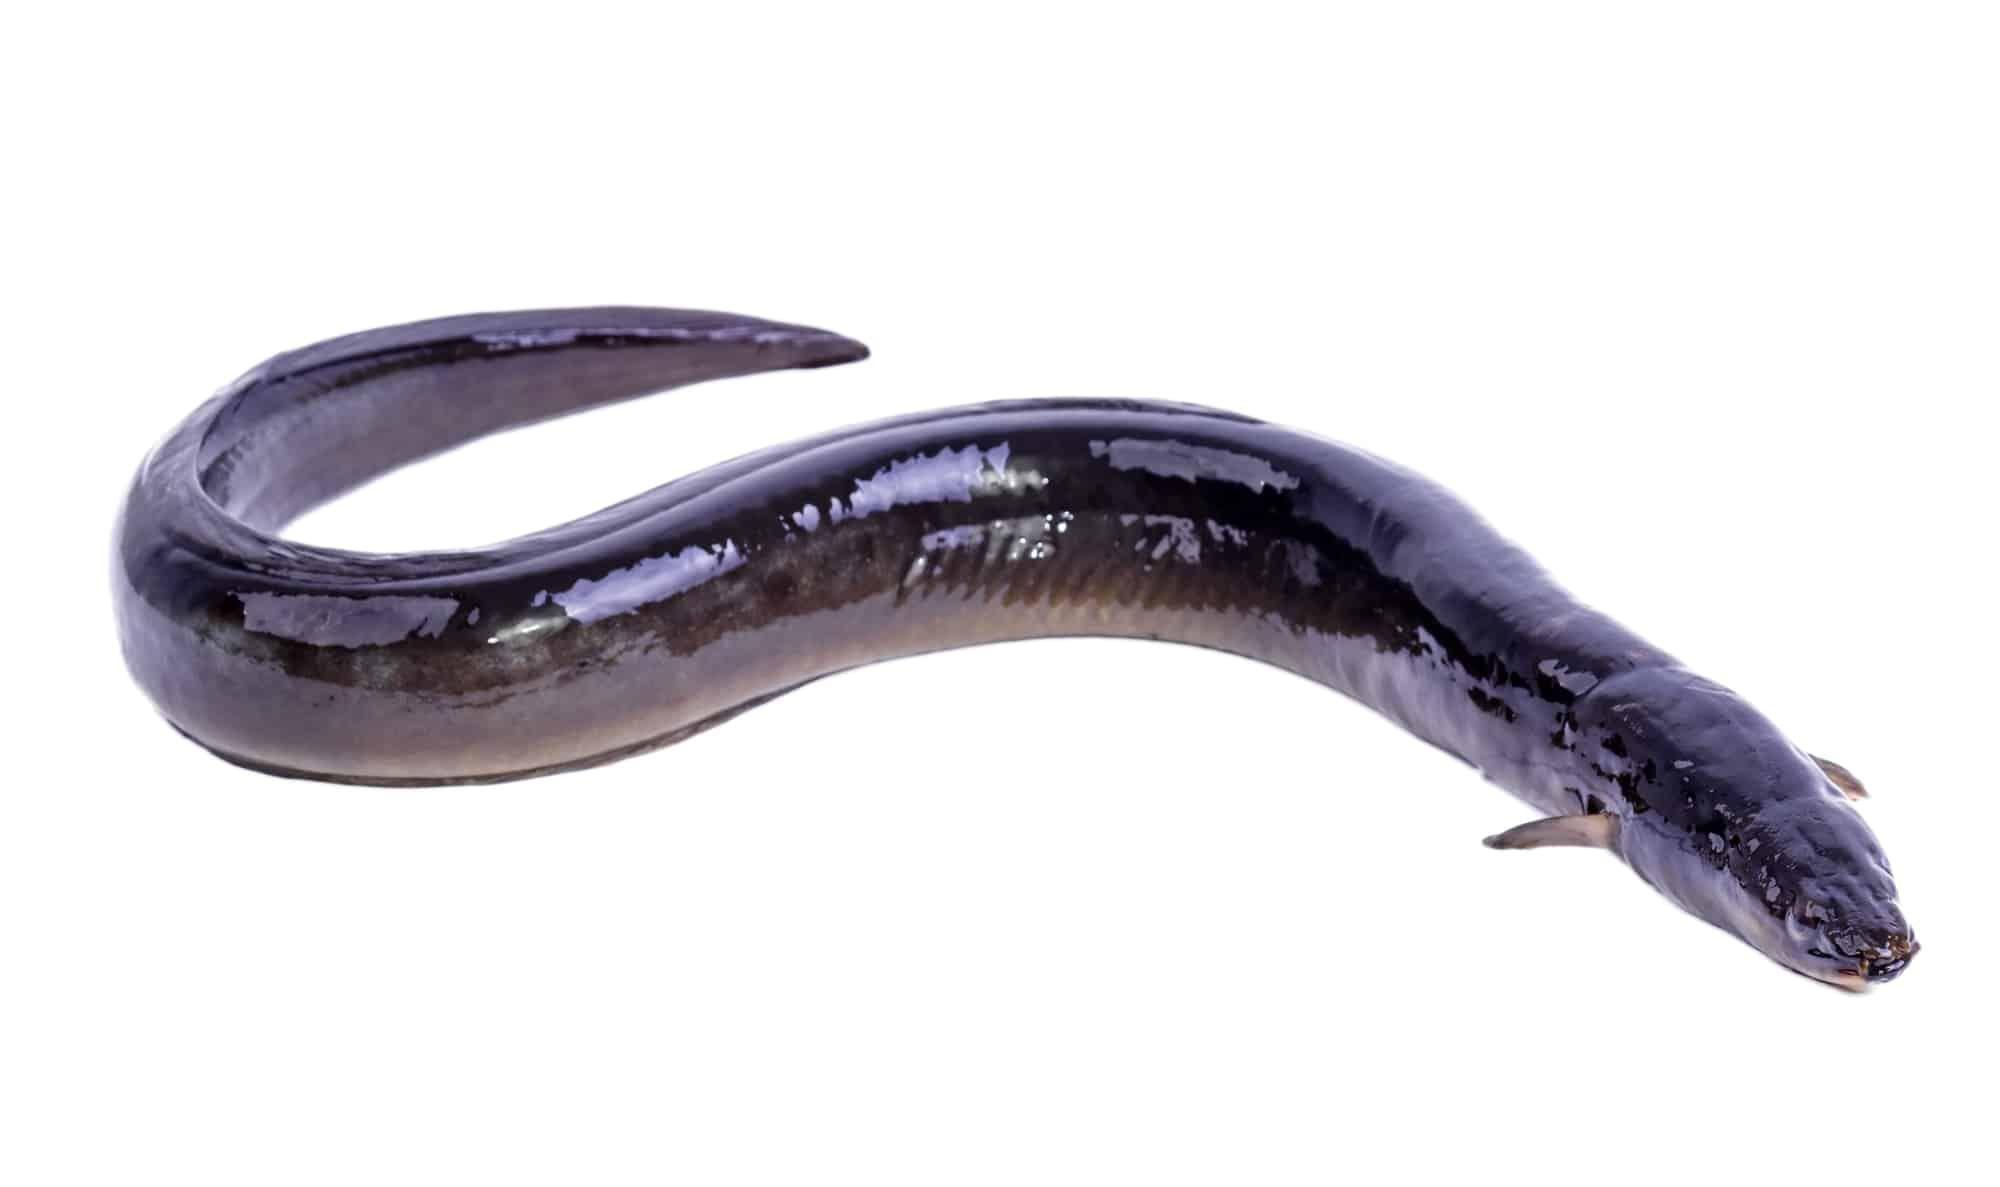Freshwater Eel: (121, 257, 1924, 996)
